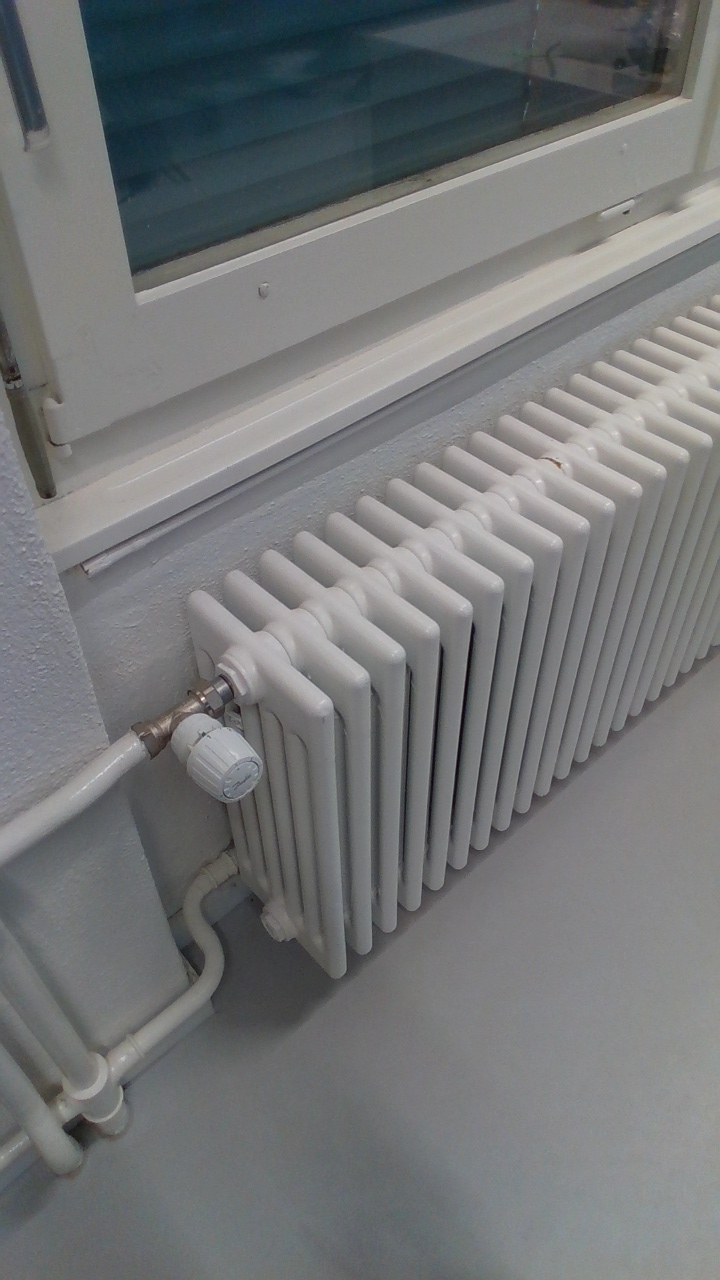Knob_Radiator: (150, 697, 272, 817)
Radiator: (170, 266, 718, 995)
